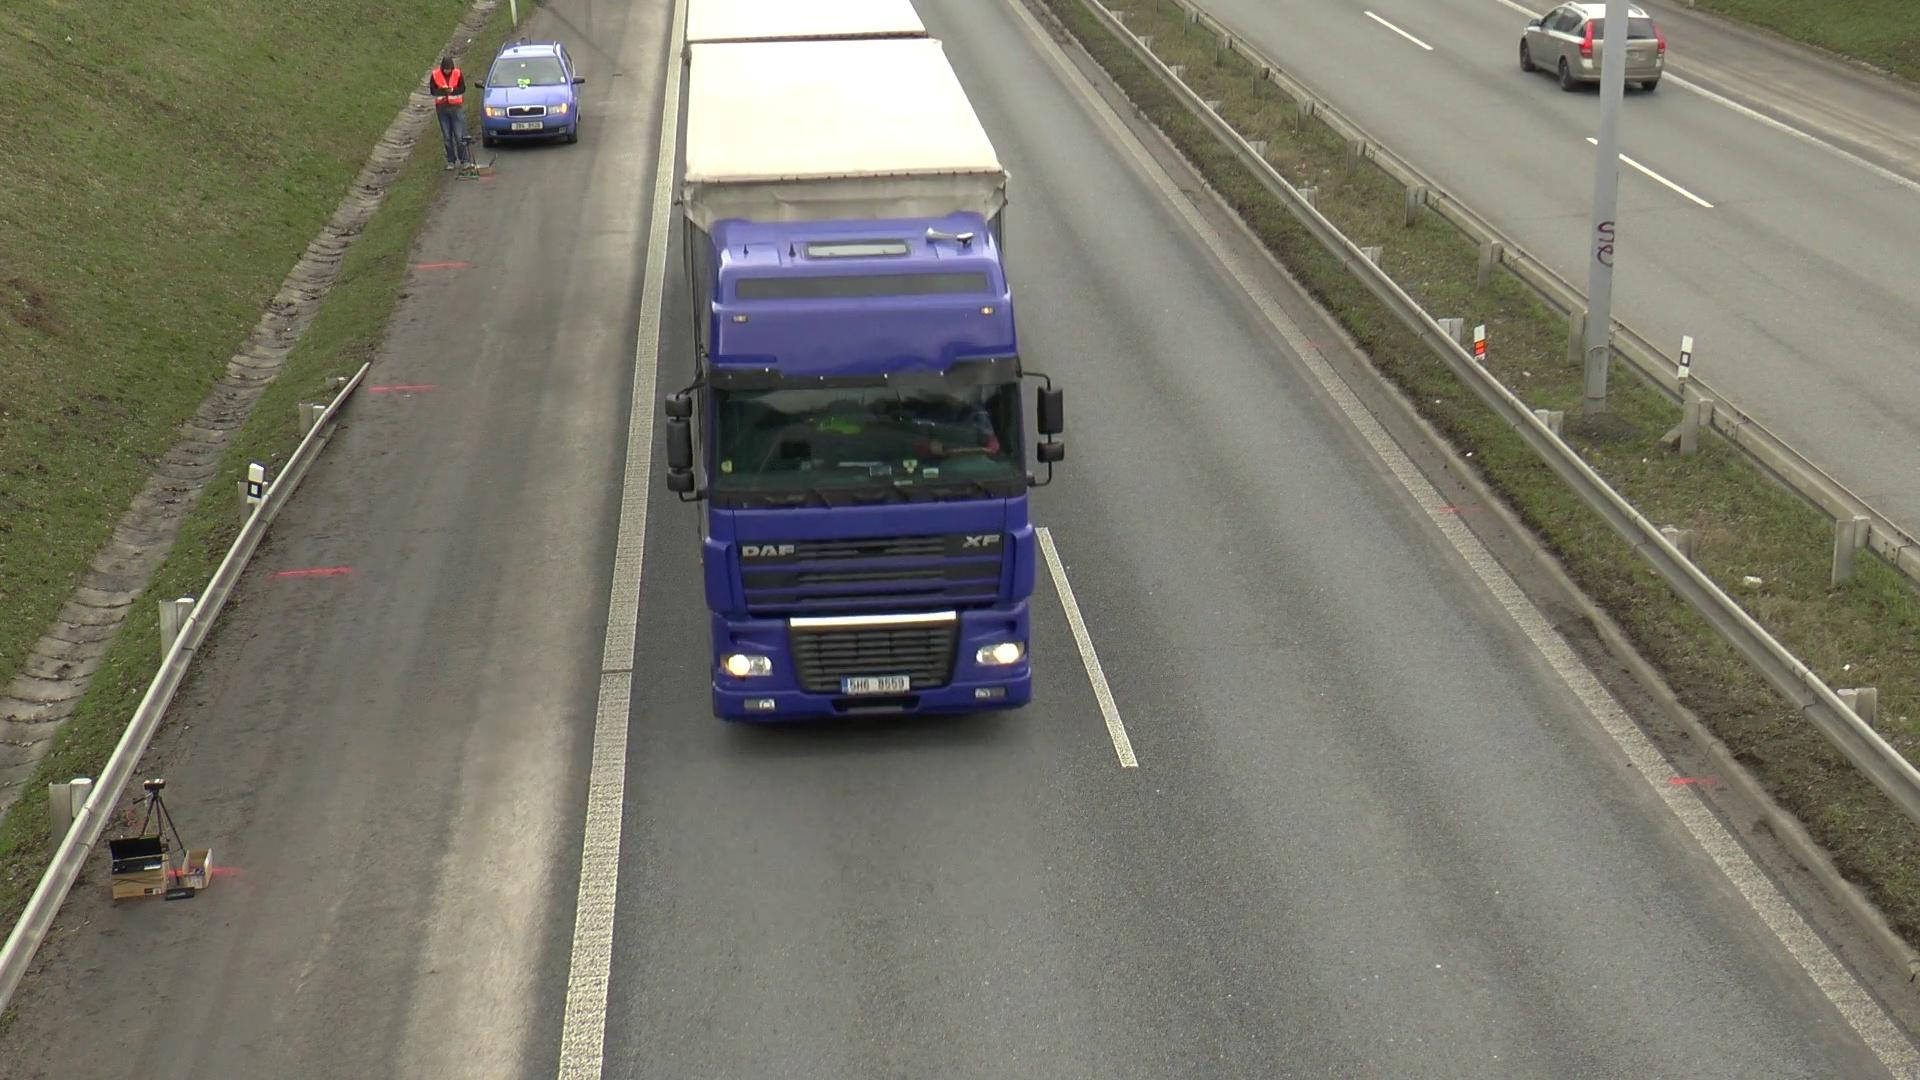Car: (1518, 0, 1678, 102), (477, 34, 580, 156)
Human: (414, 52, 483, 180)
Truck: (662, 0, 1086, 766)
